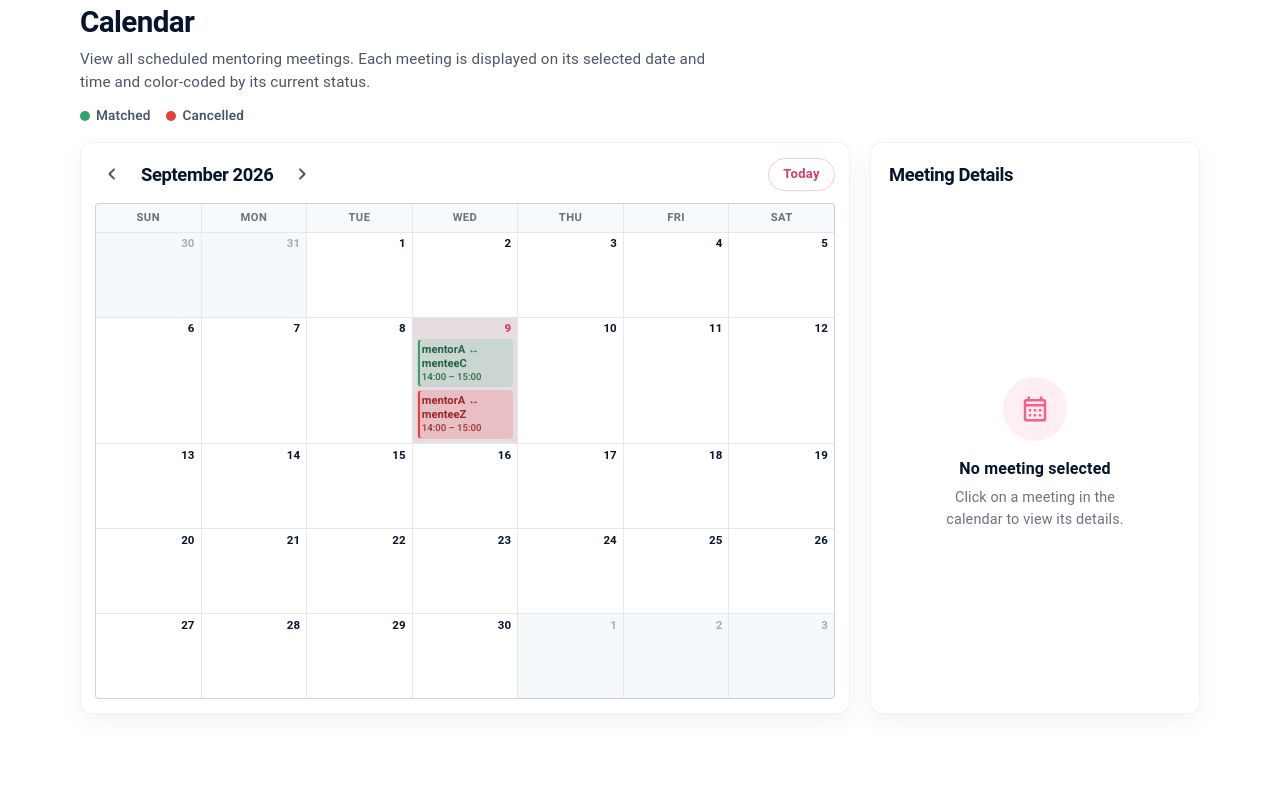
Test: AdminCalendarPage › CANCELLED meeting appears, uses Cancelled label, and opens details on click
Expected: the button with aria-label "menteeC, Matched" is shown, [417,339,513,387]
Click the button with aria-label "menteeZ, Cancelled": x=465, y=415 [417,390,513,439]
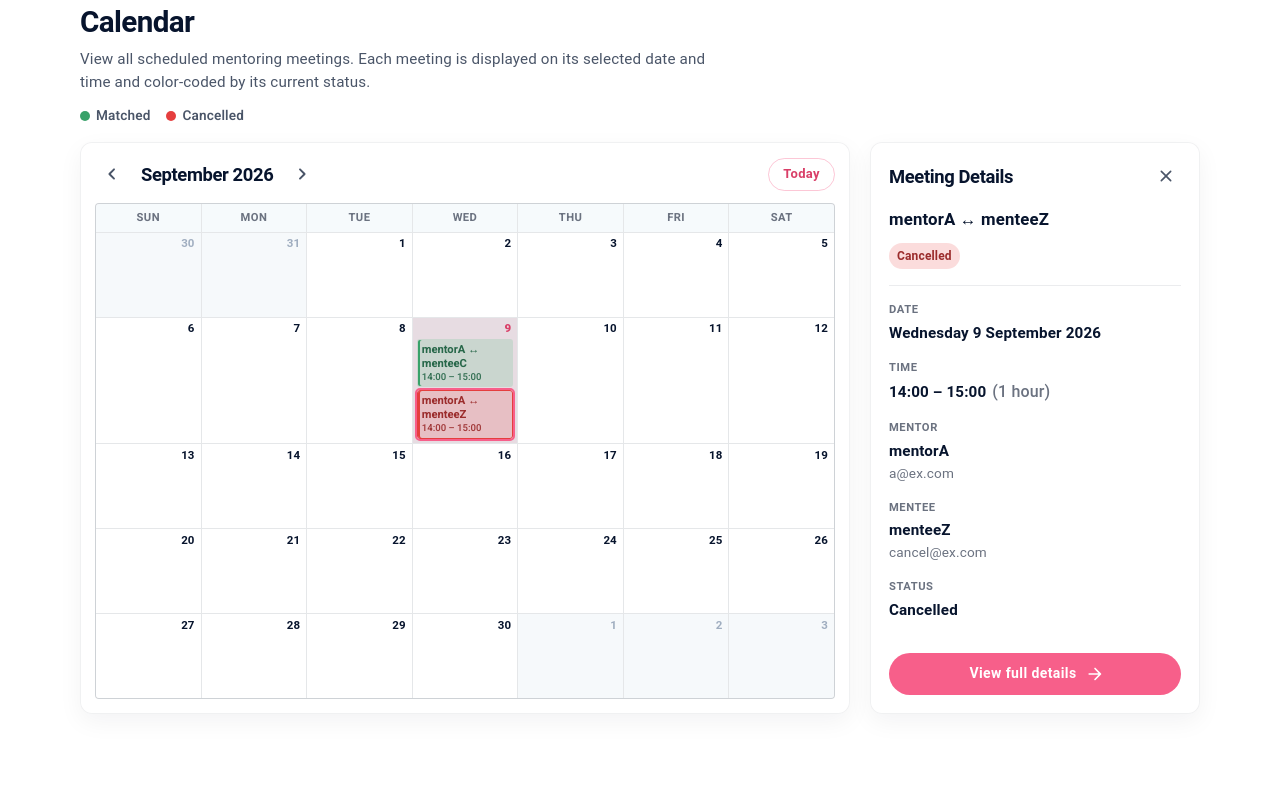
Expected: the text "Cancelled" next to "Matched" is shown, [182,106,244,126]
Result: the text "cancel@ex.com" is shown at [889,544,987,560]
